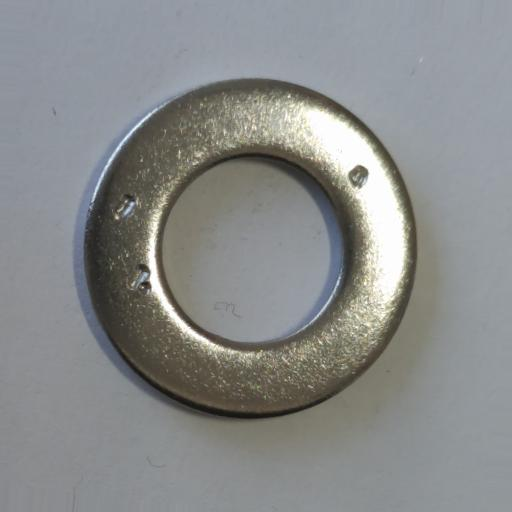circular_cavity: (112, 193, 137, 221), (347, 164, 369, 188), (133, 264, 150, 288), (137, 281, 153, 296)
